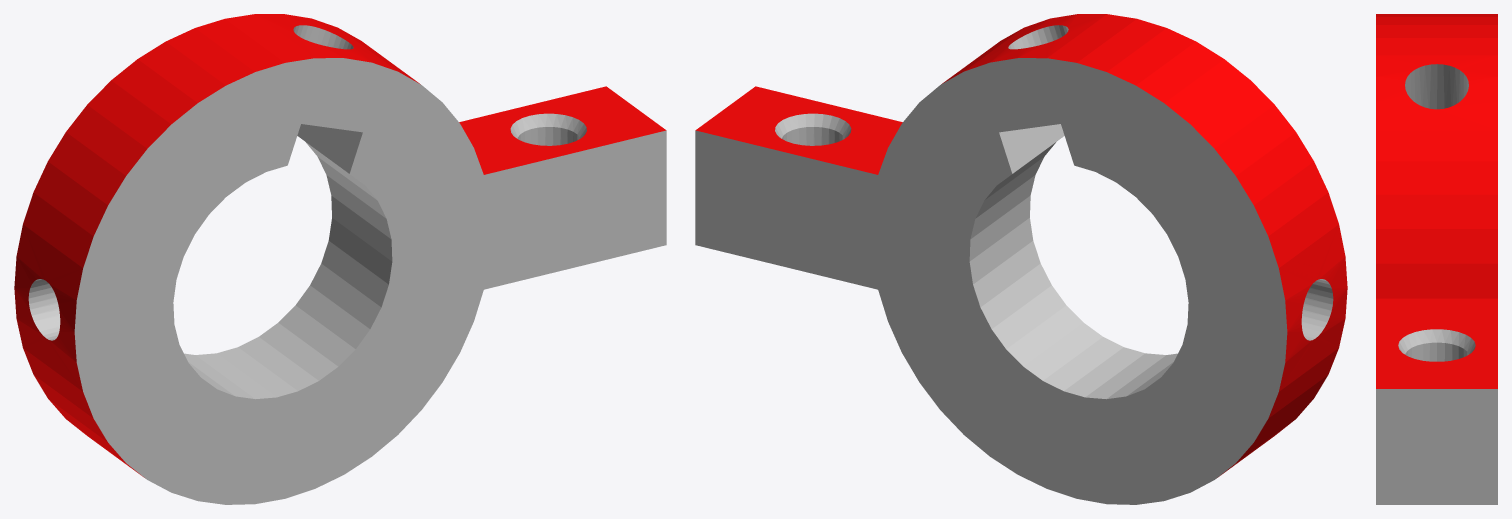
Rendered from 3__1__stp_4_5_6.obj.
The picture shows the model from 3 angles, left to right: view 1: azimuth 30°, elevation 25°; view 2: azimuth 150°, elevation 25°; view 3: azimuth 270°, elevation 25°; orthographic projection.
Parts seen in each view (by area): view 1: Object1; view 2: Object1; view 3: Object1.
Part boxes in pixels (<box>): Object1: <box>14,14,666,504</box>; Object1: <box>695,14,1347,504</box>; Object1: <box>1376,14,1497,504</box>.
Size of the model in its own units: 54 by 38 by 9.52.
